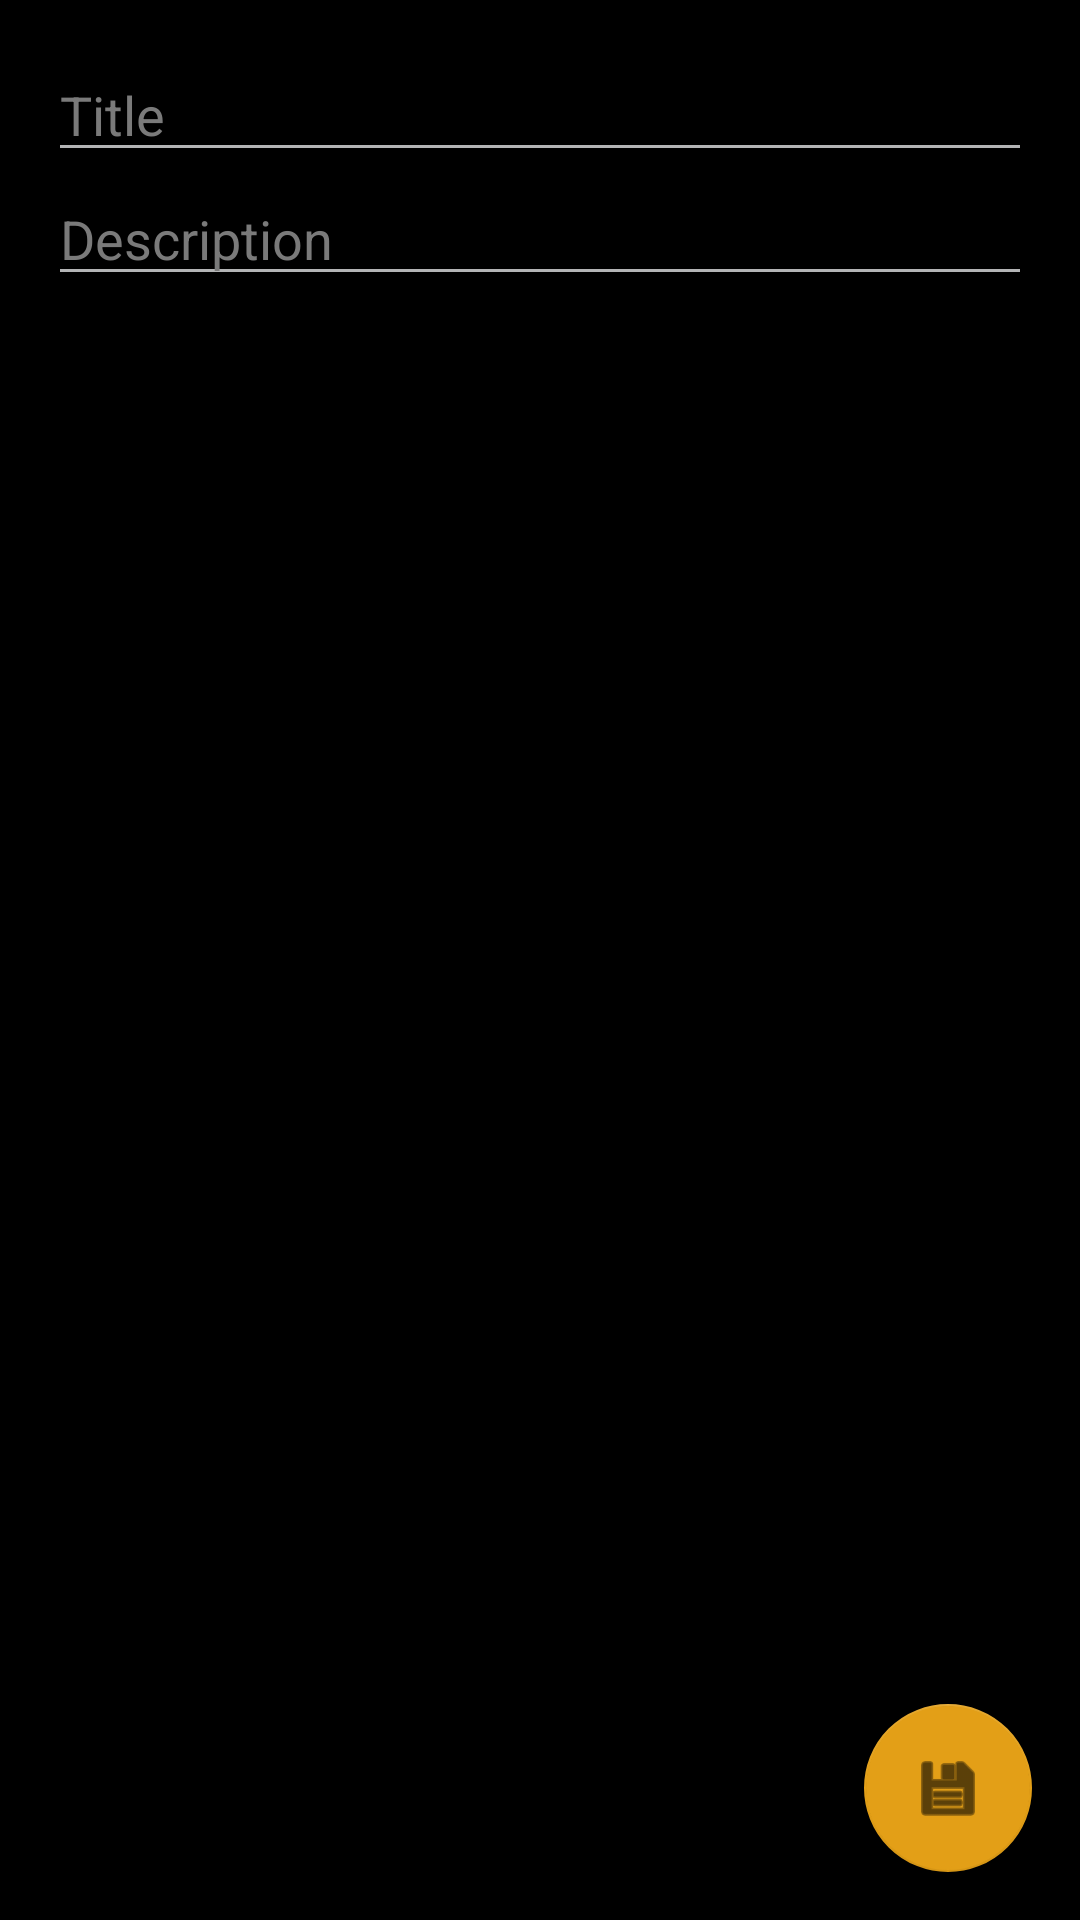

Point at icon controls on the screen. Image size 1080 x 1920, points as (x=x, y=y).
save: (x=948, y=1788)
